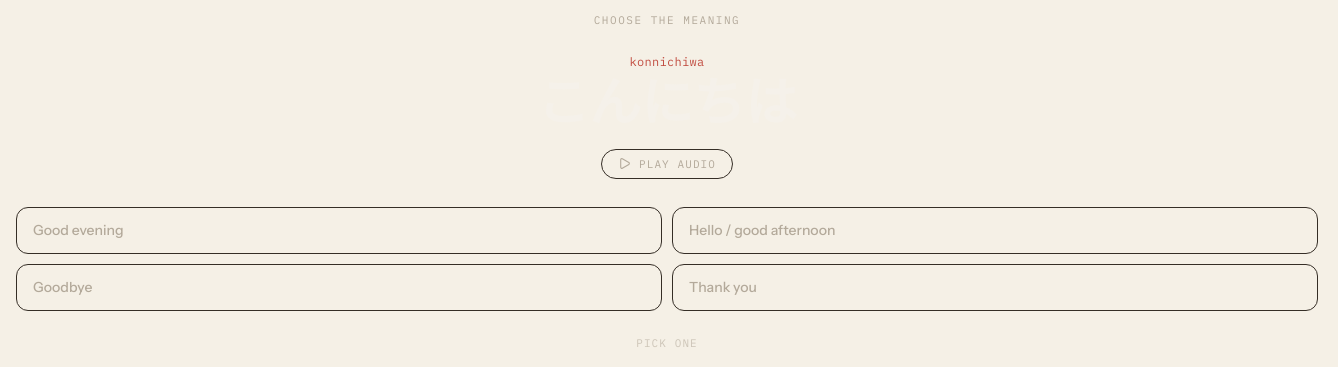
Test: VocabStep › confirms a correct answer with its next interval
Click the button "Hello / good afternoon" at (762, 230), box [672,207,1318,254]
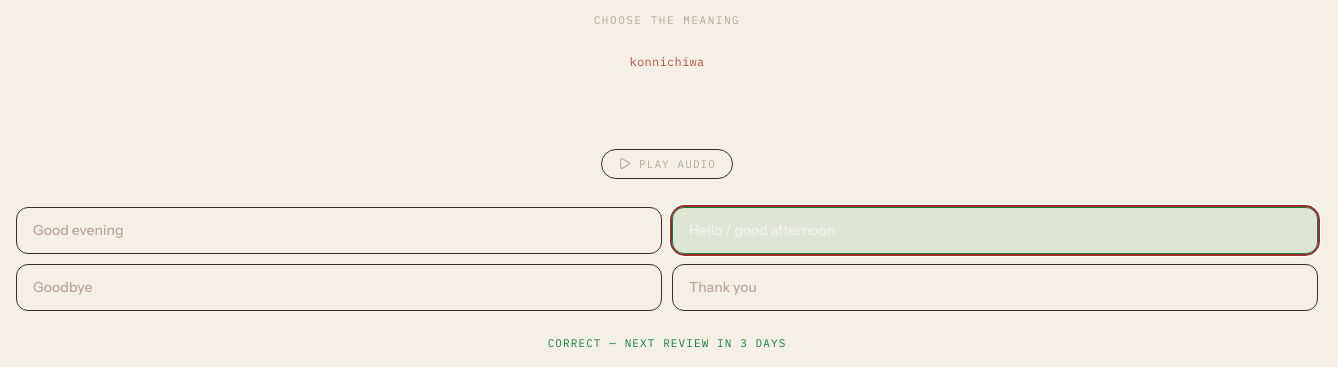
Check: the text "Correct — next review in 3 days" is shown, box [548,336,786,350]
